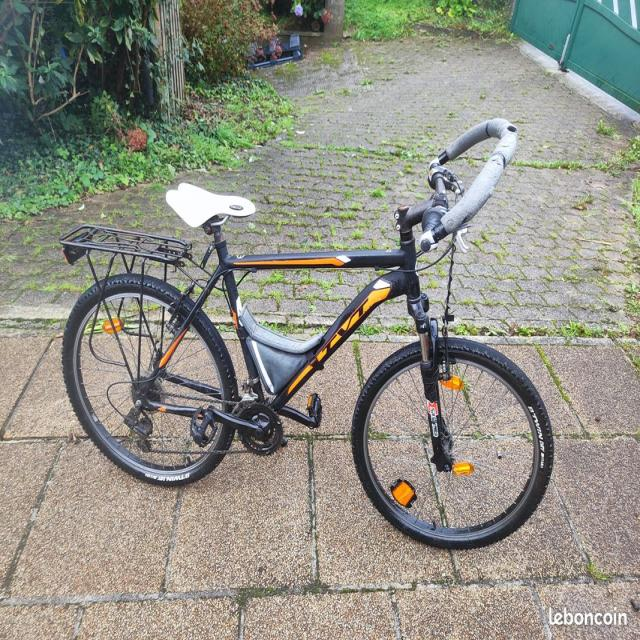Bike: (61, 118, 553, 548)
